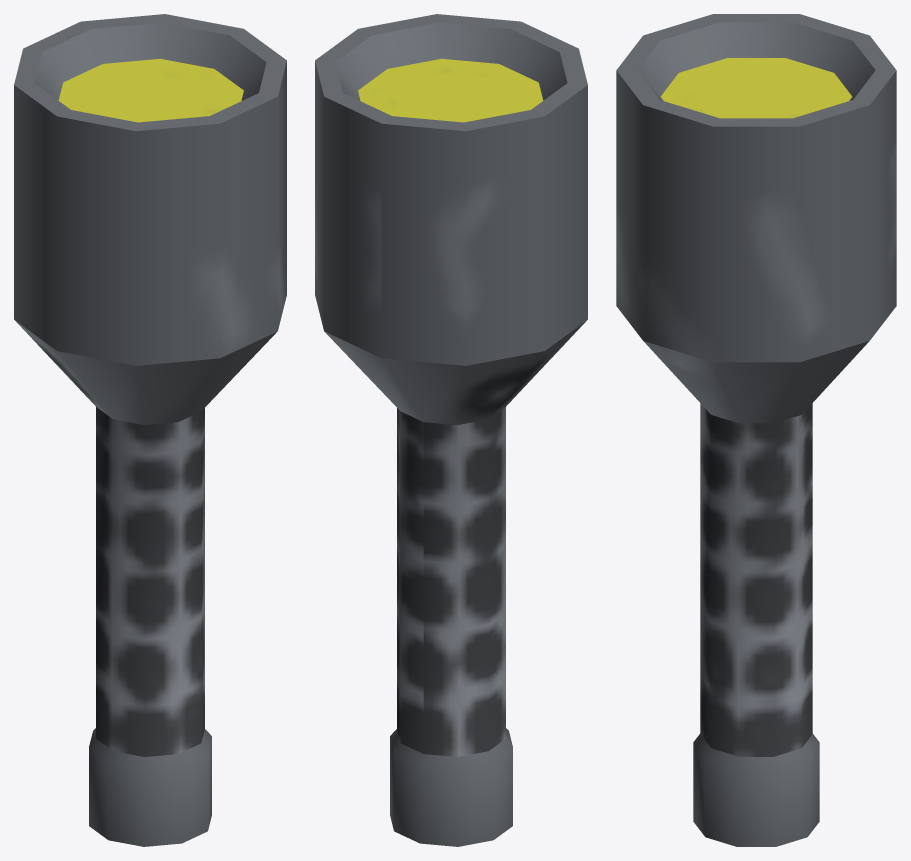
The model's file is light.fbx.
3 renders of one model, left to right at view 1: azimuth 30°, elevation 25°; view 2: azimuth 150°, elevation 25°; view 3: azimuth 270°, elevation 25°, orthographic.
Parts seen in each view (by area): view 1: Circle; view 2: Circle; view 3: Circle.
Boxes of the visible parts, box(x1,y1,x2,y2) form: Circle: box(14, 14, 286, 846); Circle: box(315, 14, 587, 846); Circle: box(616, 14, 896, 846).
Bounding box in the file's own units: 21.96 × 68.3 × 23.09.
Materials: 1 (1 with a texture image).
